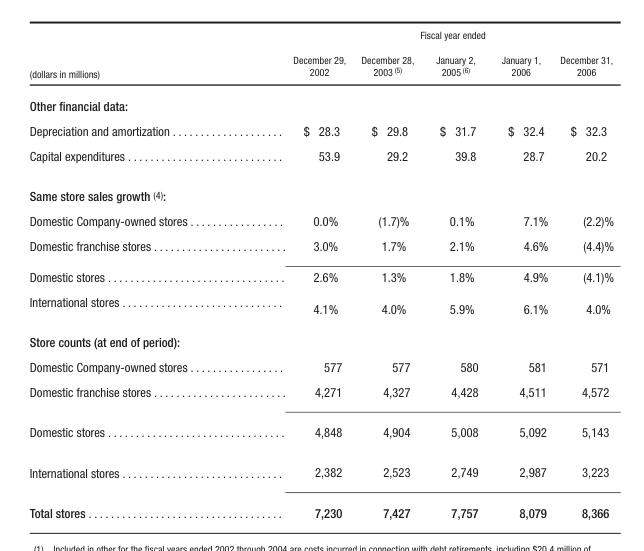table: (28, 28, 612, 519)
table column: (28, 28, 239, 519), (239, 28, 352, 519), (352, 28, 424, 519), (424, 28, 489, 519), (489, 28, 553, 519), (553, 28, 612, 519)
table column header: (28, 28, 612, 88)
table projected row header: (28, 175, 612, 208), (28, 88, 612, 117), (28, 324, 612, 353)
table row: (28, 46, 612, 88), (28, 411, 612, 451), (28, 451, 612, 491), (28, 288, 612, 324), (28, 142, 612, 175), (28, 175, 612, 208), (28, 378, 612, 411), (28, 88, 612, 117), (28, 324, 612, 353), (28, 260, 612, 288), (28, 491, 612, 519), (28, 233, 612, 260), (28, 117, 612, 142), (28, 208, 612, 233), (28, 353, 612, 378), (28, 28, 612, 46)
table spanning cell: (28, 28, 239, 88), (239, 28, 612, 46)
